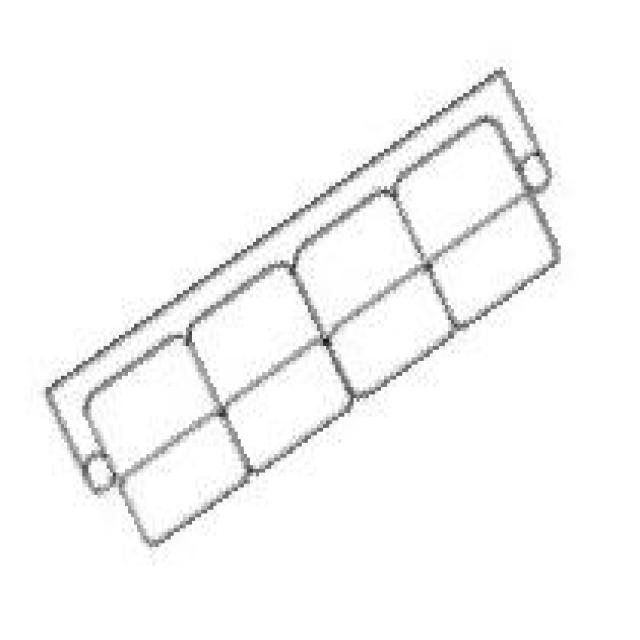sofa: (42, 60, 560, 543)
